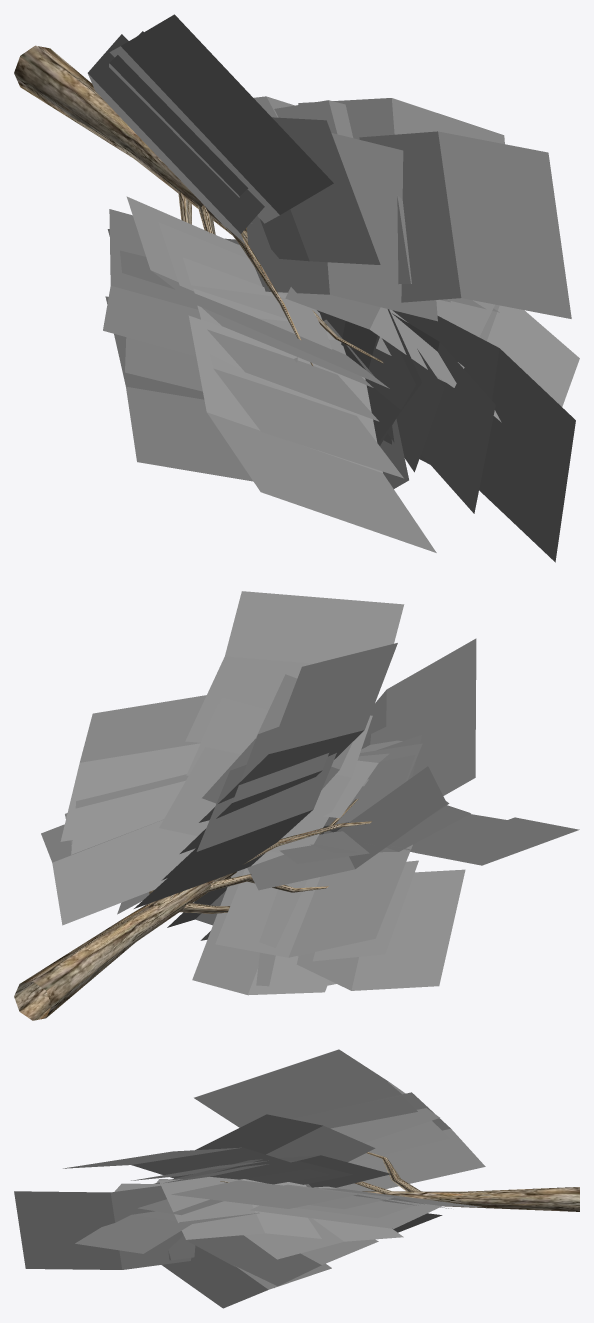
3 views of the same model, one above another, from view 1: azimuth 30°, elevation 25°; view 2: azimuth 150°, elevation 25°; view 3: azimuth 270°, elevation 25° (orthographic). The views are drawn at different scales.
Visible parts, largest first — view 1: plant_pmat3, plant_pmat1, plant_pmat2; view 2: plant_pmat3, plant_pmat1, plant_pmat2; view 3: plant_pmat3, plant_pmat1, plant_pmat2.
Boxes of the visible parts, bbox=[...] form: plant_pmat3: bbox=[87, 14, 579, 562]; plant_pmat1: bbox=[14, 45, 247, 235]; plant_pmat2: bbox=[178, 192, 383, 365]; plant_pmat3: bbox=[41, 591, 579, 995]; plant_pmat1: bbox=[14, 871, 236, 1020]; plant_pmat2: bbox=[149, 798, 371, 913]; plant_pmat3: bbox=[14, 1049, 486, 1308]; plant_pmat1: bbox=[362, 1187, 579, 1211]; plant_pmat2: bbox=[220, 1152, 421, 1194].
Size of the model in its own units: 4.01 by 4.12 by 9.11.
